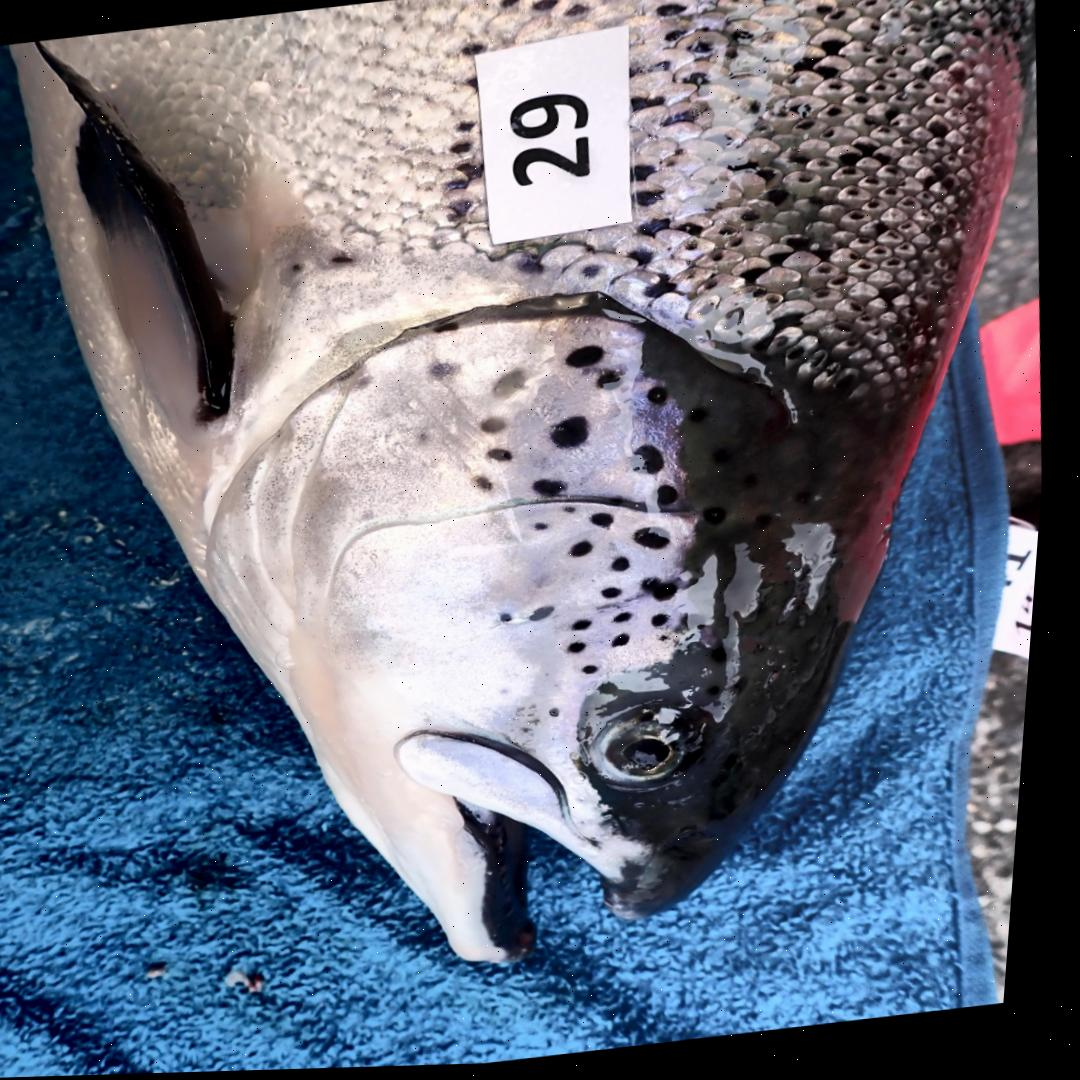spot: (557, 418, 597, 452), (498, 372, 532, 402), (637, 448, 672, 477), (650, 580, 687, 605), (572, 348, 609, 372), (642, 530, 680, 553), (432, 362, 466, 385), (541, 482, 575, 501), (602, 372, 628, 392), (488, 419, 514, 437), (577, 543, 603, 561), (665, 489, 686, 511), (653, 389, 675, 409), (567, 501, 593, 517), (689, 617, 715, 633), (494, 451, 520, 466), (539, 609, 565, 624), (599, 516, 622, 531), (481, 478, 501, 495), (620, 560, 640, 576), (437, 324, 464, 335), (577, 644, 597, 657), (582, 622, 602, 634), (622, 615, 642, 627), (623, 637, 640, 651), (662, 617, 679, 631), (610, 591, 630, 602), (592, 668, 609, 677), (542, 525, 556, 534), (511, 616, 522, 625), (561, 711, 570, 720), (669, 638, 679, 645)
